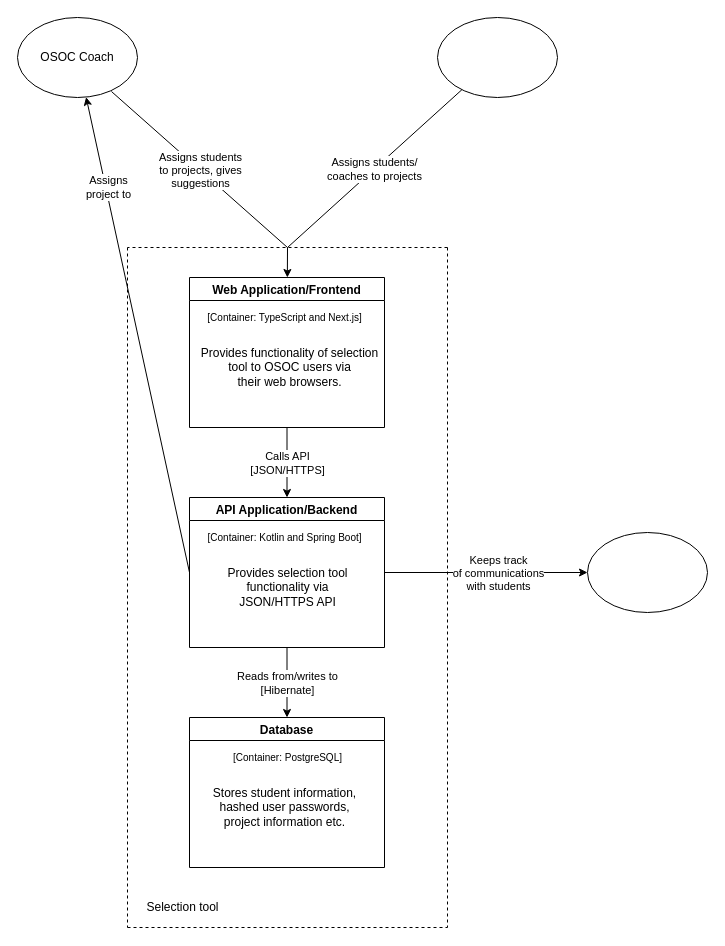
The diagram is 725 pixels wide and 946 high, and some of its shapes have lost their labels. Each missing label, with the centre of its shape:
OSOC Admin: pixel 497 57
Student: pixel 647 572
